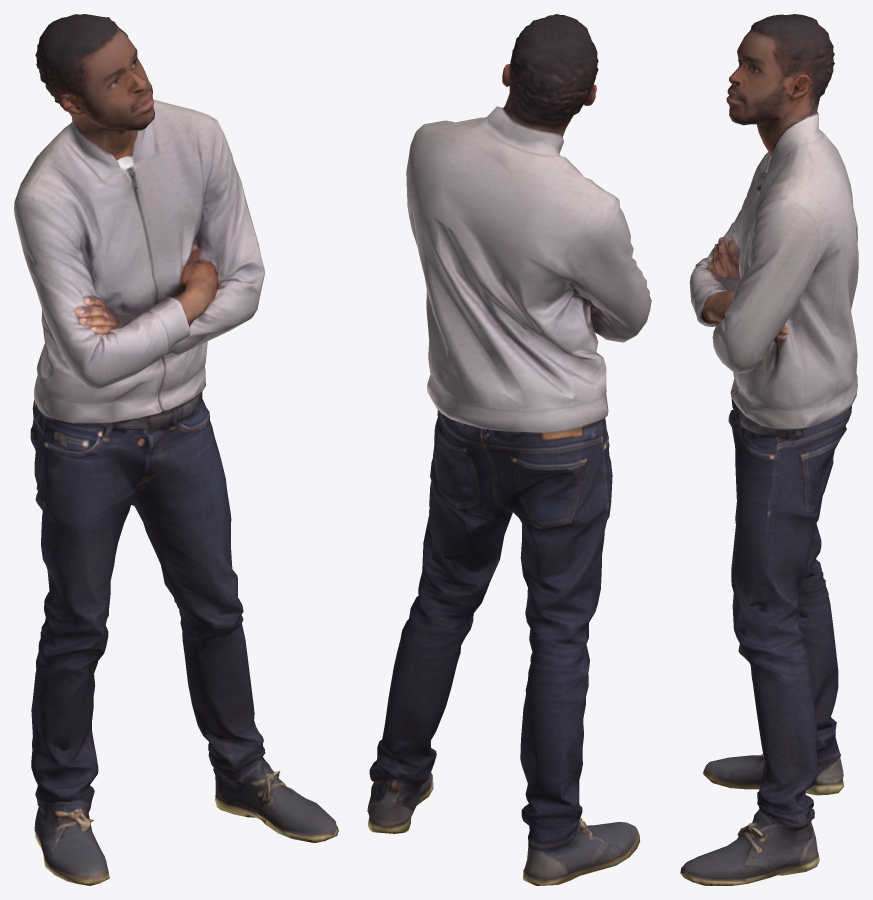
File: BaseHuman.fbx
3 views of the same model, side by side, from view 1: azimuth 30°, elevation 25°; view 2: azimuth 150°, elevation 25°; view 3: azimuth 270°, elevation 25° (orthographic). The views are drawn at different scales.
Parts seen in each view (by area): view 1: Cas_Sum_Man_RtStand_366; view 2: Cas_Sum_Man_RtStand_366; view 3: Cas_Sum_Man_RtStand_366.
Boxes of the visible parts, box(x1,y1,x2,y2) form: Cas_Sum_Man_RtStand_366: box(14, 14, 338, 885); Cas_Sum_Man_RtStand_366: box(367, 14, 651, 885); Cas_Sum_Man_RtStand_366: box(680, 14, 858, 885).
Size of the model in its own units: 0.5257 by 1.53 by 0.3193.
1 material, 1 textured.
